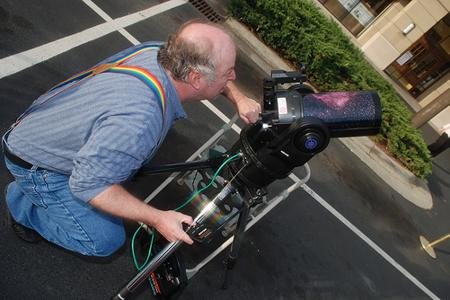person: (4, 21, 261, 255)
